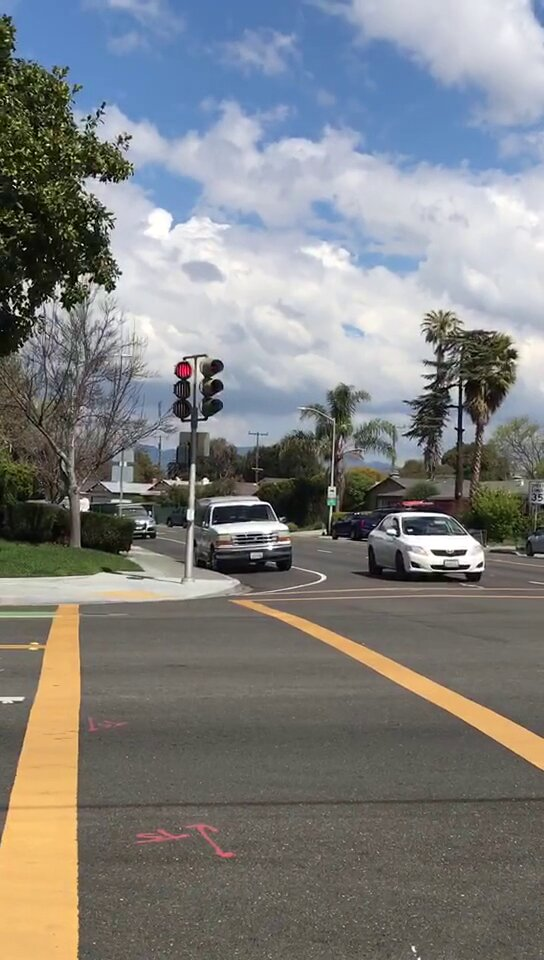red_light: (172, 360, 192, 422)
